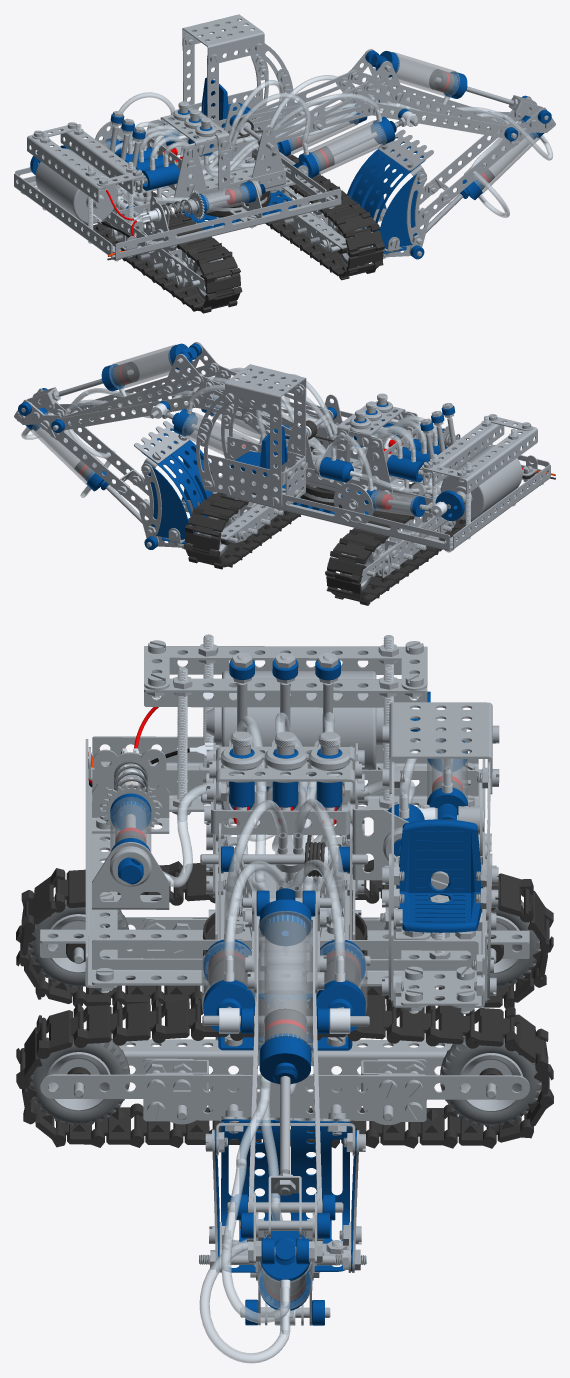
The model's file is Bagger_VVV.glb.
3 views of the same model, one above another, from view 1: azimuth 30°, elevation 25°; view 2: azimuth 150°, elevation 25°; view 3: azimuth 270°, elevation 25° (orthographic). The views are drawn at different scales.
Parts seen in each view (by area): view 1: Arbeitszylinder Wand (×4), Kettenglied (×9), Winkelstab 11 (×2), Winkelstab 15 (×4), Winkelstab 20, Motor D 40 d 4, Winkelplatte 3 x 5, Lochband 15 (×2), Lochband 15 oben (×2), Seitenplatte (×2), Langlochband 11 oben (×2), Trapezplatte 3 x 5 abgewinkelt (×2) (+29 smaller); view 2: Kettenglied (×9), Arbeitszylinder Wand (×4), Winkelstab 11 (×2), Winkelstab 20, Winkelplatte 3 x 5, Motor D 40 d 4, Winkelstab 15 (×2), Lochband 15 (×2), Platte 3 x 7, Lochband 15 oben (×2), Lochband 9 (×2), Seitenplatte (+28 smaller); view 3: Kettenglied (×20), Winkelstab 15 (×4), Arbeitszylinder Wand (×4), Winkelstab 19 (×2), Winkelstab 11 (×2), Lochband 19, Reifen 40 x 20 x 10 (×4), Sitz (×2), Motor D 40 d 4, Befestigungswinkel (×3), Winkelplatte 3 x 5, Arbeitszylinder Deckel (×3) (+29 smaller).
Boxes of the visible parts, x1,y1,x2,y2 form: Arbeitszylinder Wand (×4): [288, 52, 539, 193]; Kettenglied (×9): [176, 206, 384, 311]; Winkelstab 11 (×2): [27, 130, 145, 202]; Winkelstab 15 (×4): [14, 130, 326, 257]; Winkelstab 20: [114, 189, 341, 259]; Motor D 40 d 4: [35, 148, 117, 223]; Winkelplatte 3 x 5: [182, 14, 264, 65]; Lochband 15 (×2): [418, 98, 541, 227]; Lochband 15 oben (×2): [348, 70, 513, 132]; Seitenplatte (×2): [350, 154, 422, 248]; Langlochband 11 oben (×2): [241, 70, 368, 144]; Trapezplatte 3 x 5 abgewinkelt (×2): [217, 102, 283, 183]; Kettenglied (×9): [183, 492, 384, 599]; Arbeitszylinder Wand (×4): [30, 344, 283, 484]; Winkelstab 11 (×2): [420, 421, 537, 494]; Winkelstab 20: [226, 493, 452, 551]; Winkelplatte 3 x 5: [225, 364, 306, 415]; Motor D 40 d 4: [441, 445, 522, 519]; Winkelstab 15 (×2): [281, 463, 550, 549]; Lochband 15 (×2): [28, 390, 149, 518]; Platte 3 x 7: [203, 454, 282, 507]; Lochband 15 oben (×2): [57, 363, 219, 424]; Lochband 9 (×2): [270, 383, 305, 506]; Seitenplatte: [147, 463, 188, 539]; Kettenglied (×20): [16, 863, 553, 1148]; Winkelstab 15 (×4): [92, 736, 478, 986]; Arbeitszylinder Wand (×4): [201, 911, 367, 1308]; Winkelstab 19 (×2): [40, 929, 529, 1075]; Winkelstab 11 (×2): [144, 646, 427, 707]; Lochband 19: [40, 1074, 529, 1099]; Reifen 40 x 20 x 10 (×4): [28, 896, 541, 1126]; Sitz (×2): [397, 819, 482, 932]; Motor D 40 d 4: [206, 670, 383, 769]; Befestigungswinkel (×3): [92, 752, 408, 909]; Winkelplatte 3 x 5: [389, 702, 492, 794]; Arbeitszylinder Deckel (×3): [203, 980, 365, 1084].
Bounding box in the file's own units: 0.436 × 0.1942 × 0.2087.
